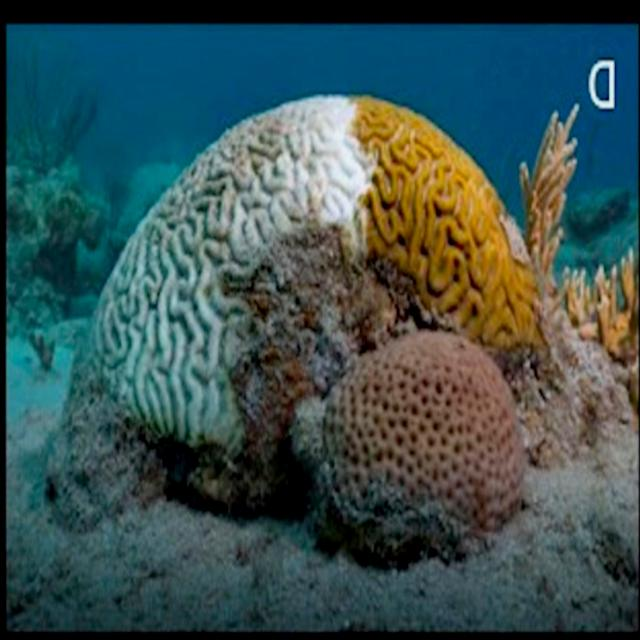Coral: (91, 93, 542, 458), (325, 330, 527, 533), (518, 101, 580, 313), (561, 240, 639, 366)
